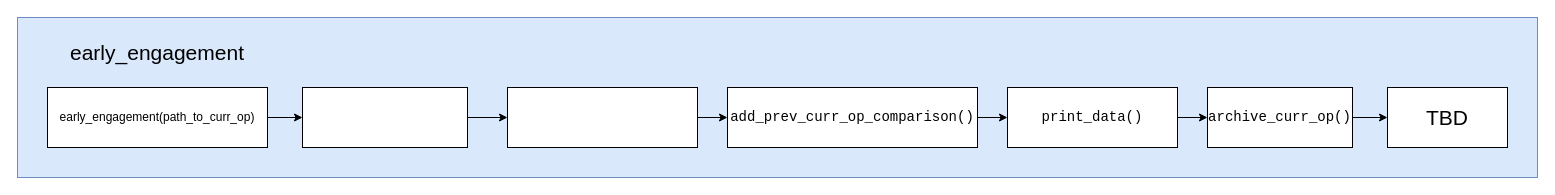
The diagram is 1555 pixels wide and 195 high, and some of its shapes have lost their labels. Here are the shapes that lost their labels. From the top down, the centre of each, then its label:
the point at 385,117: add_prev_op_path()
the point at 602,117: add_prev_curr_op_df()
